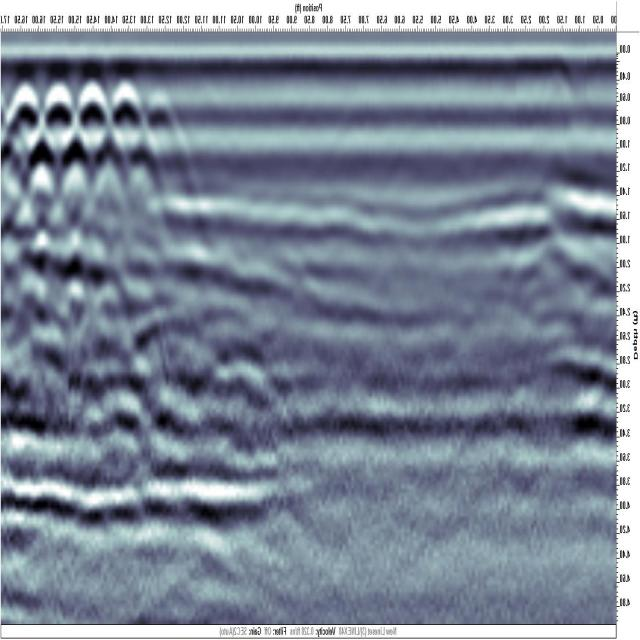hyperbola: (106, 79, 146, 215)
